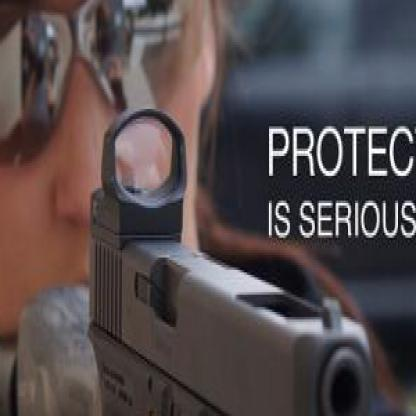gun: (78, 101, 381, 414)
